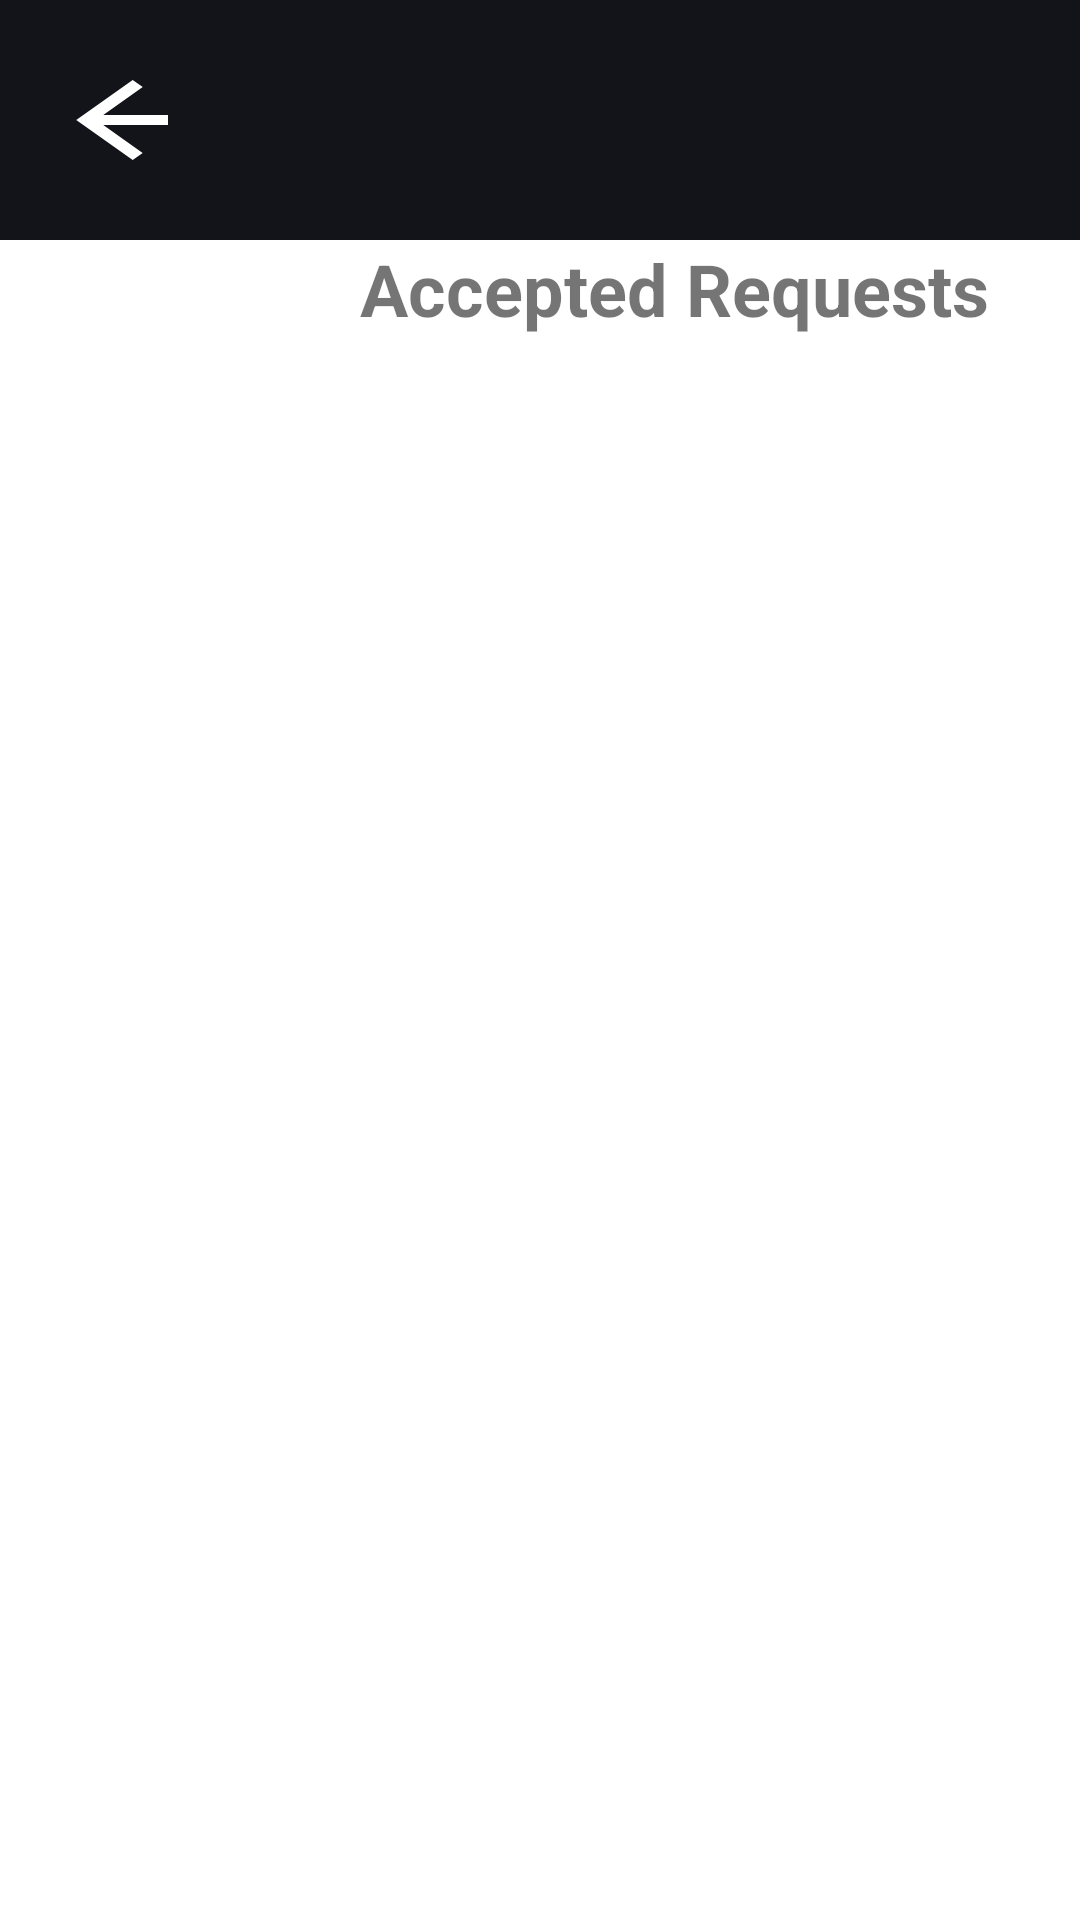

Point at icon controls on the screen. Image size 1080 x 1920, points as (x=x, y=y).
back: (x=122, y=120)
